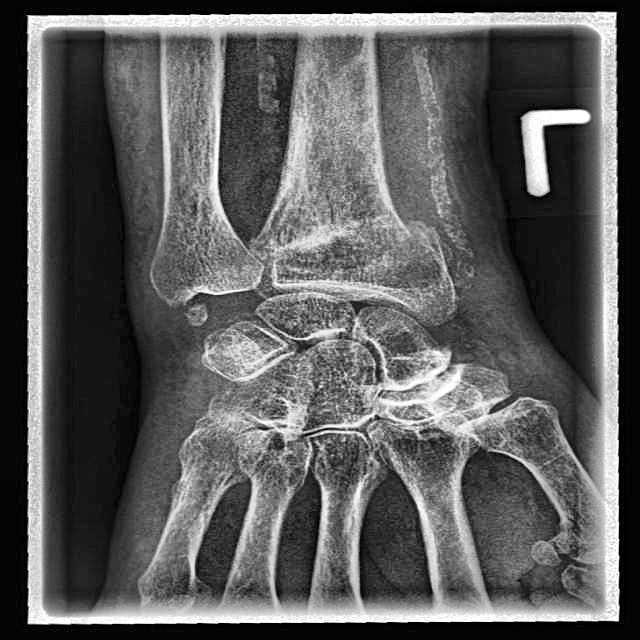Oblique Displaced: (532, 464, 599, 570)
